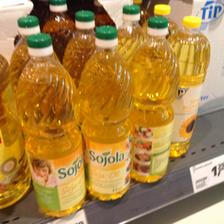Oel: (14, 32, 86, 216), (80, 24, 132, 200), (129, 19, 177, 184)
